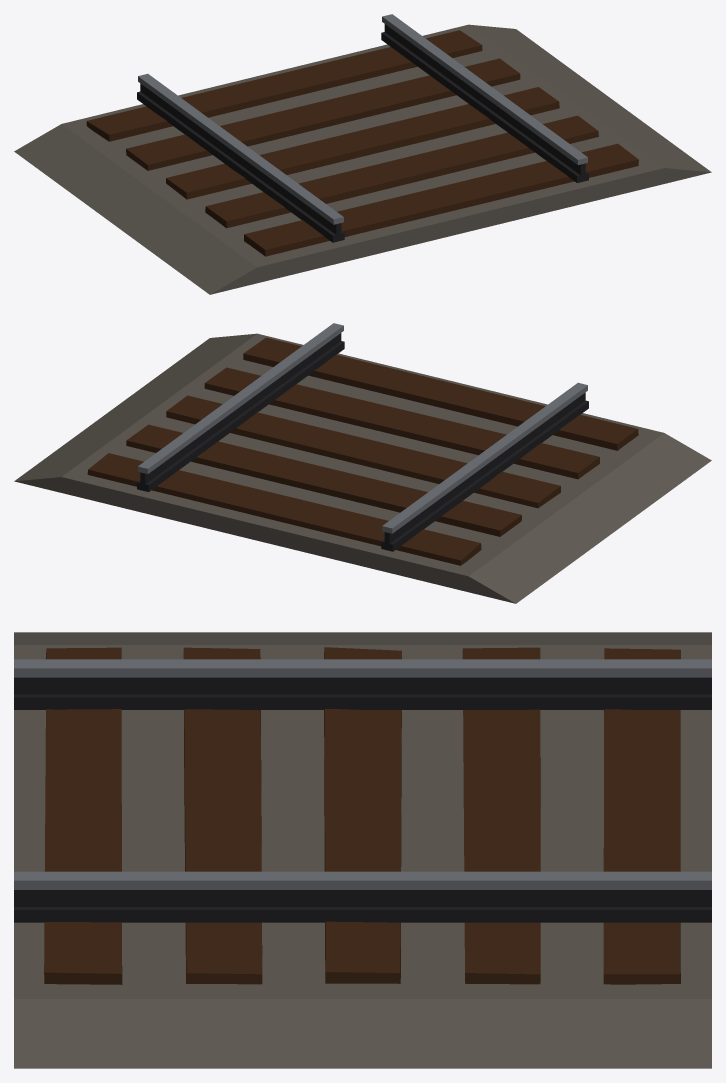
Rendered from SM_Rail_Track.obj.
3 views of the same model, one above another, from view 1: azimuth 30°, elevation 25°; view 2: azimuth 150°, elevation 25°; view 3: azimuth 270°, elevation 25° (orthographic). The views are drawn at different scales.
Parts seen in each view (by area): view 1: SM_Rail_Track; view 2: SM_Rail_Track; view 3: SM_Rail_Track.
Part boxes in pixels (x1,y1,x2,y2): SM_Rail_Track: (14,14,711,294); SM_Rail_Track: (14,323,711,603); SM_Rail_Track: (14,632,711,1068).
Size of the model in its own units: 2.96 by 0.2543 by 2.
